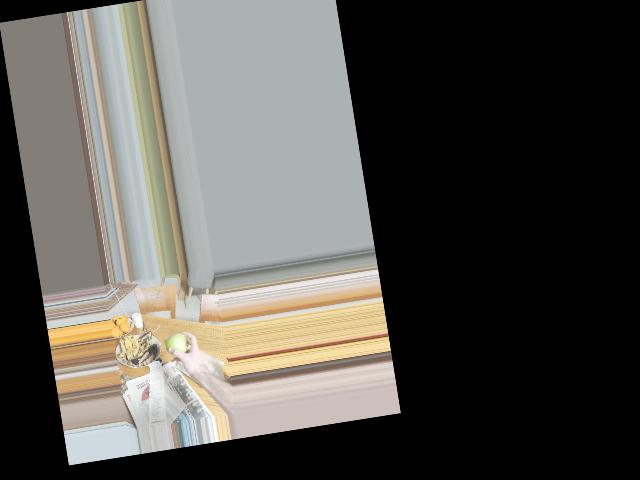apple: (165, 331, 189, 359)
